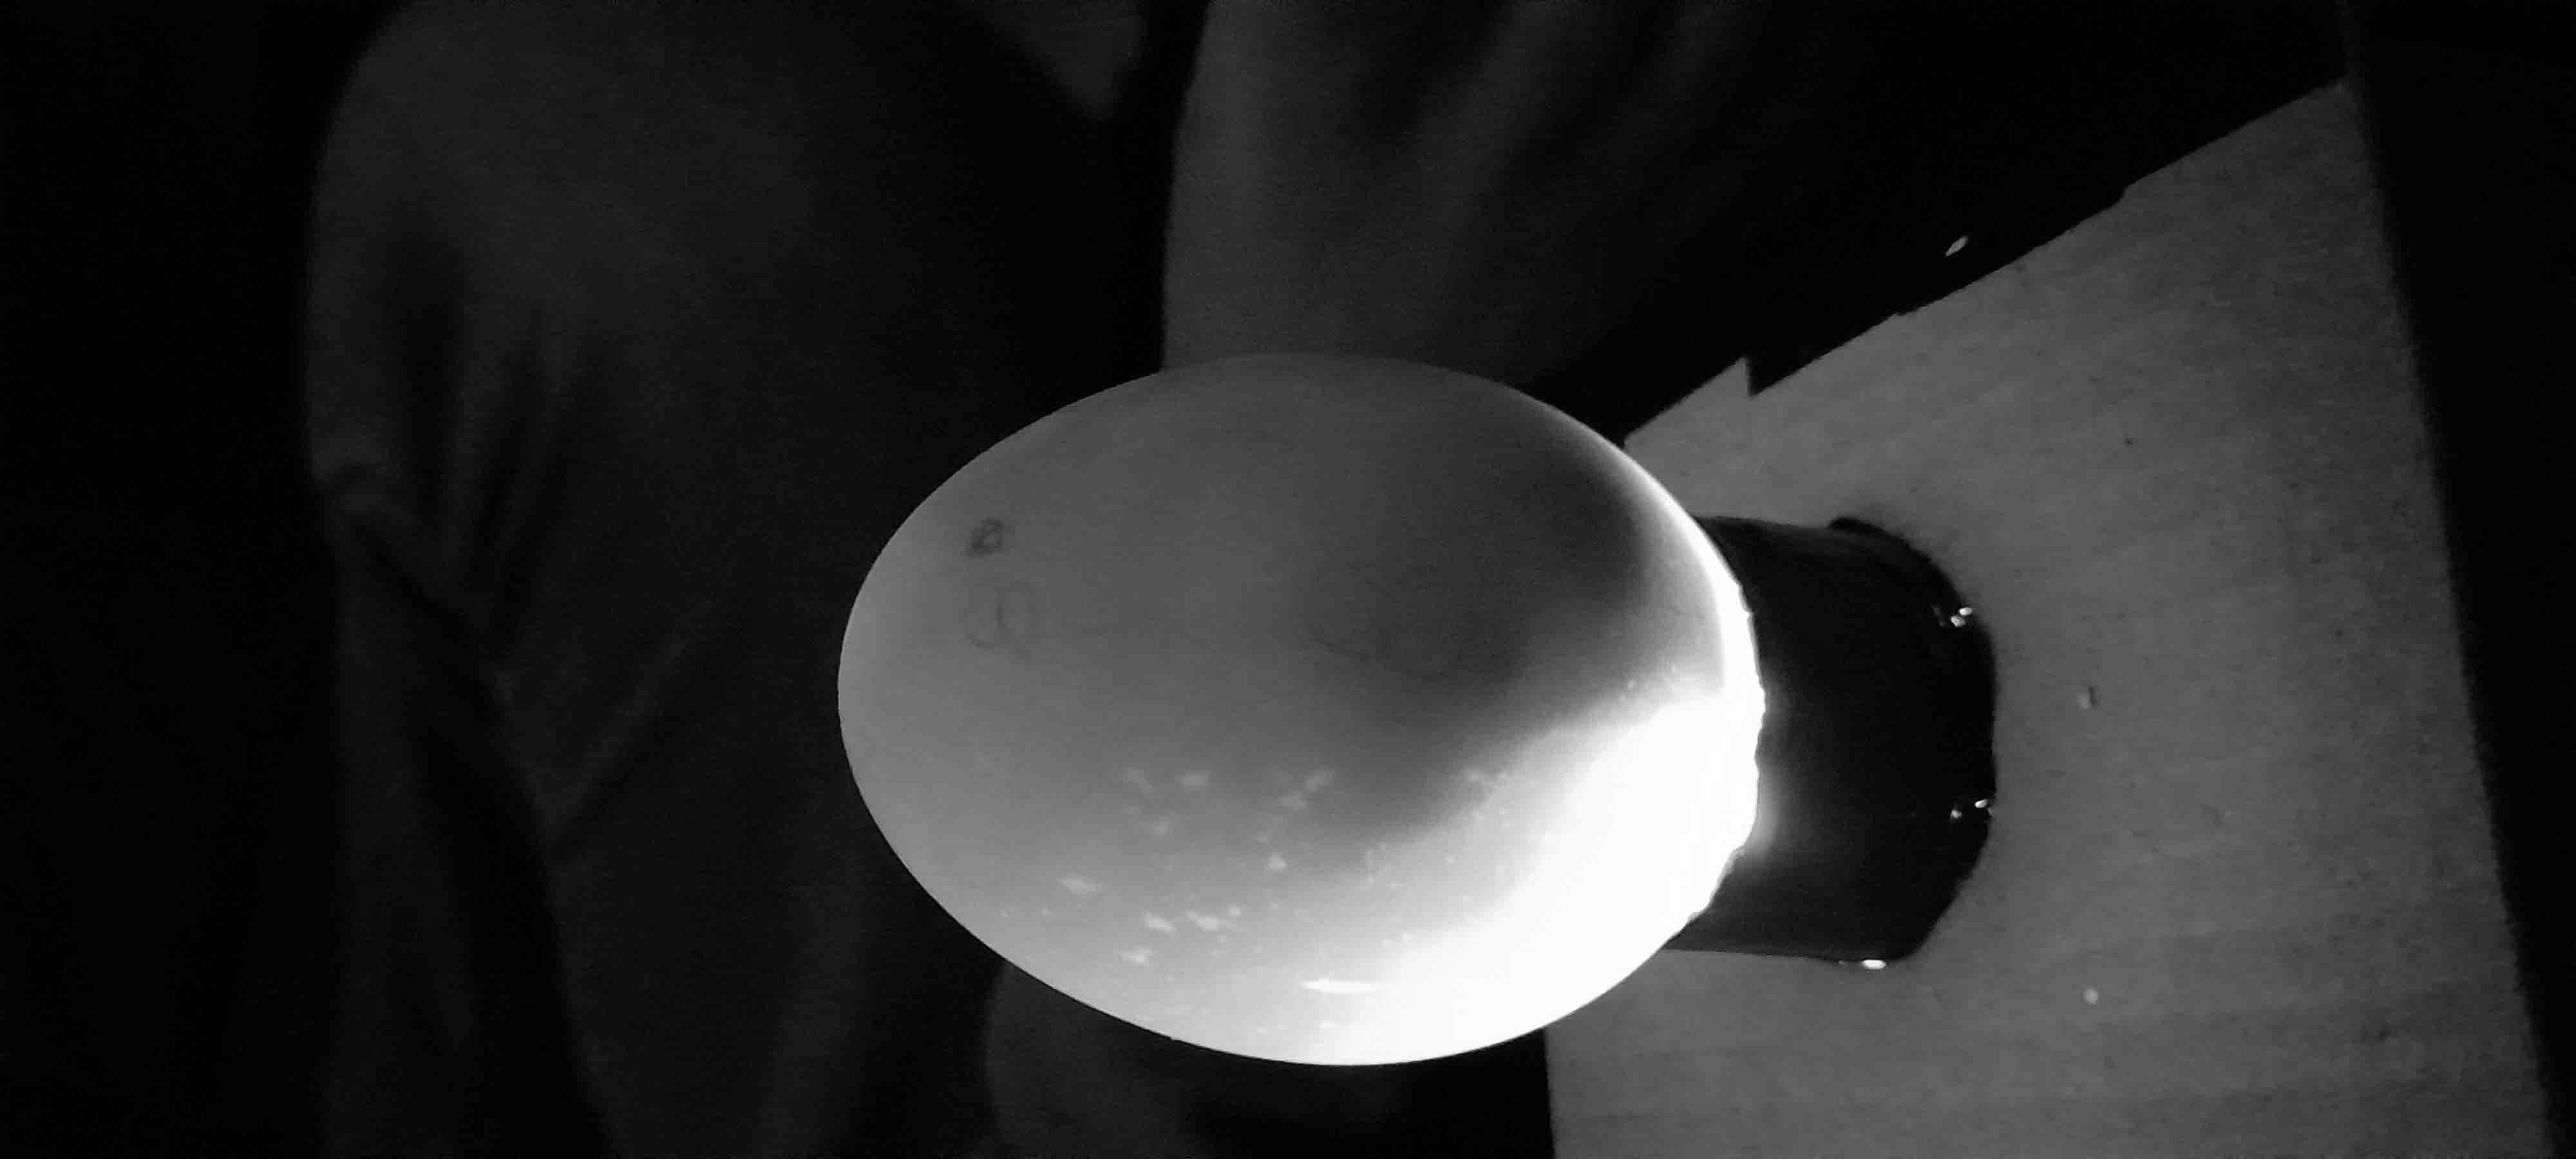telur: (802, 330, 1779, 1087)
